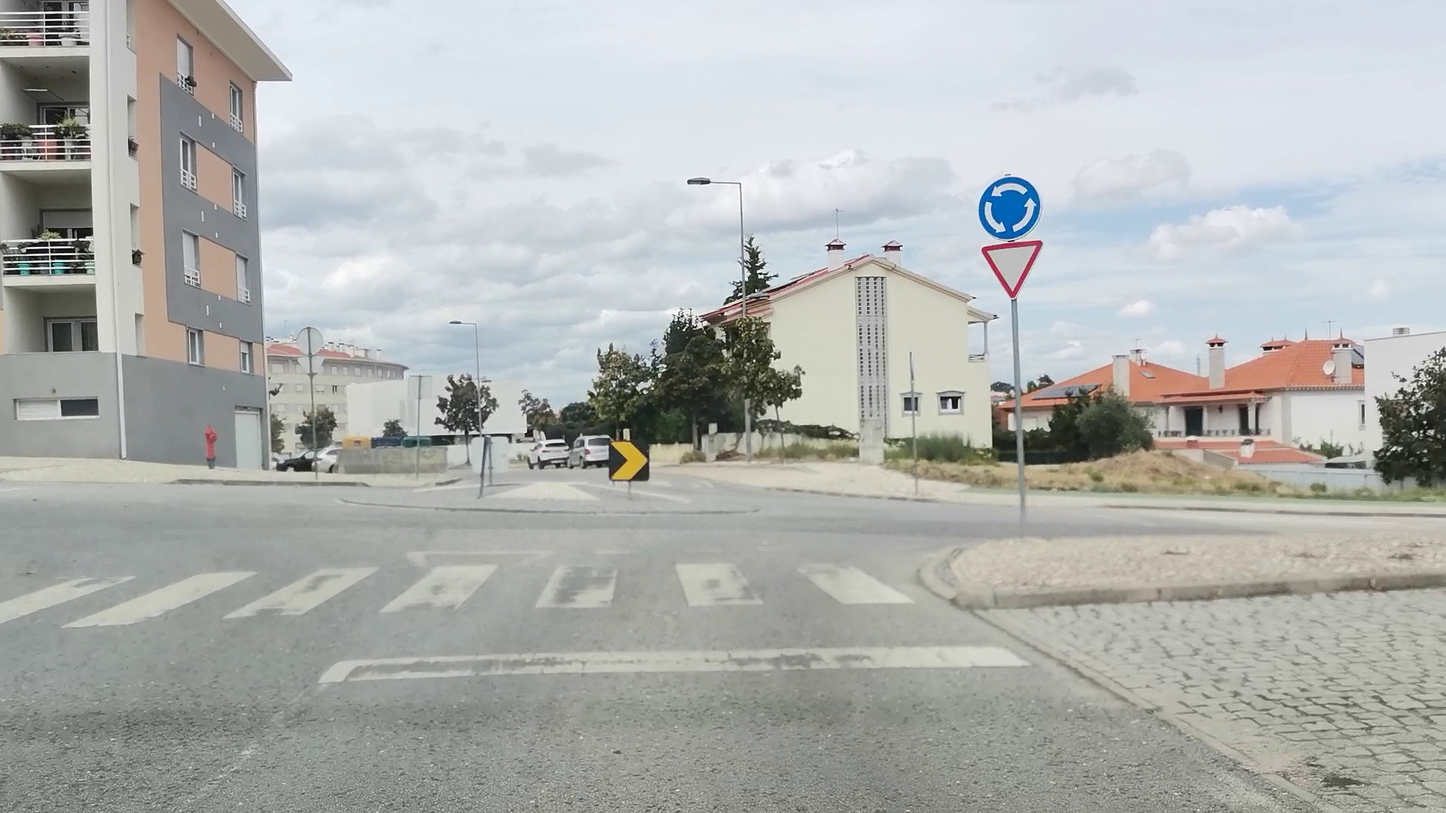Stairs: (0, 560, 928, 625)
